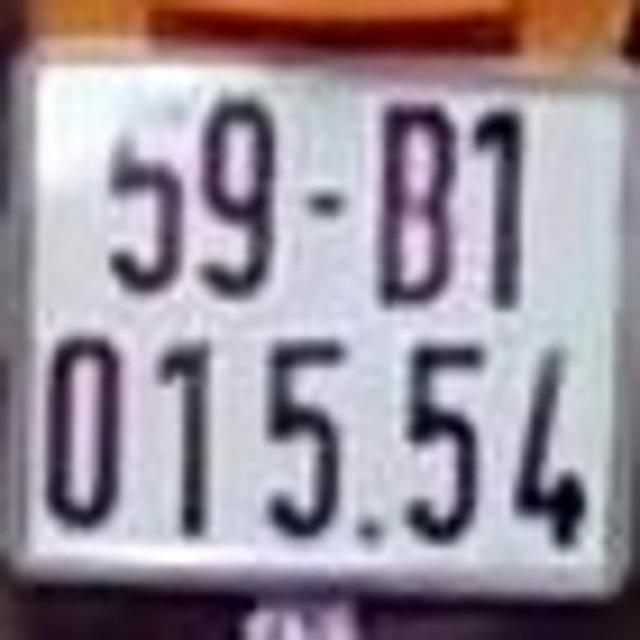0: (42, 327, 124, 530)
1: (152, 331, 218, 539), (470, 100, 533, 313)
4: (511, 334, 592, 553)
5: (261, 329, 348, 542), (102, 86, 190, 296), (402, 335, 486, 547)
9: (197, 88, 280, 304)
B: (375, 93, 459, 309)
